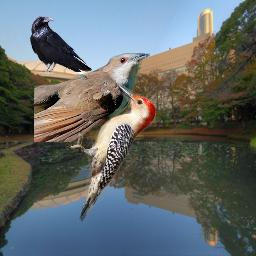Crow: (30, 16, 92, 79)
Cuckoo: (34, 53, 150, 142)
Woodpecker: (65, 83, 158, 222)
